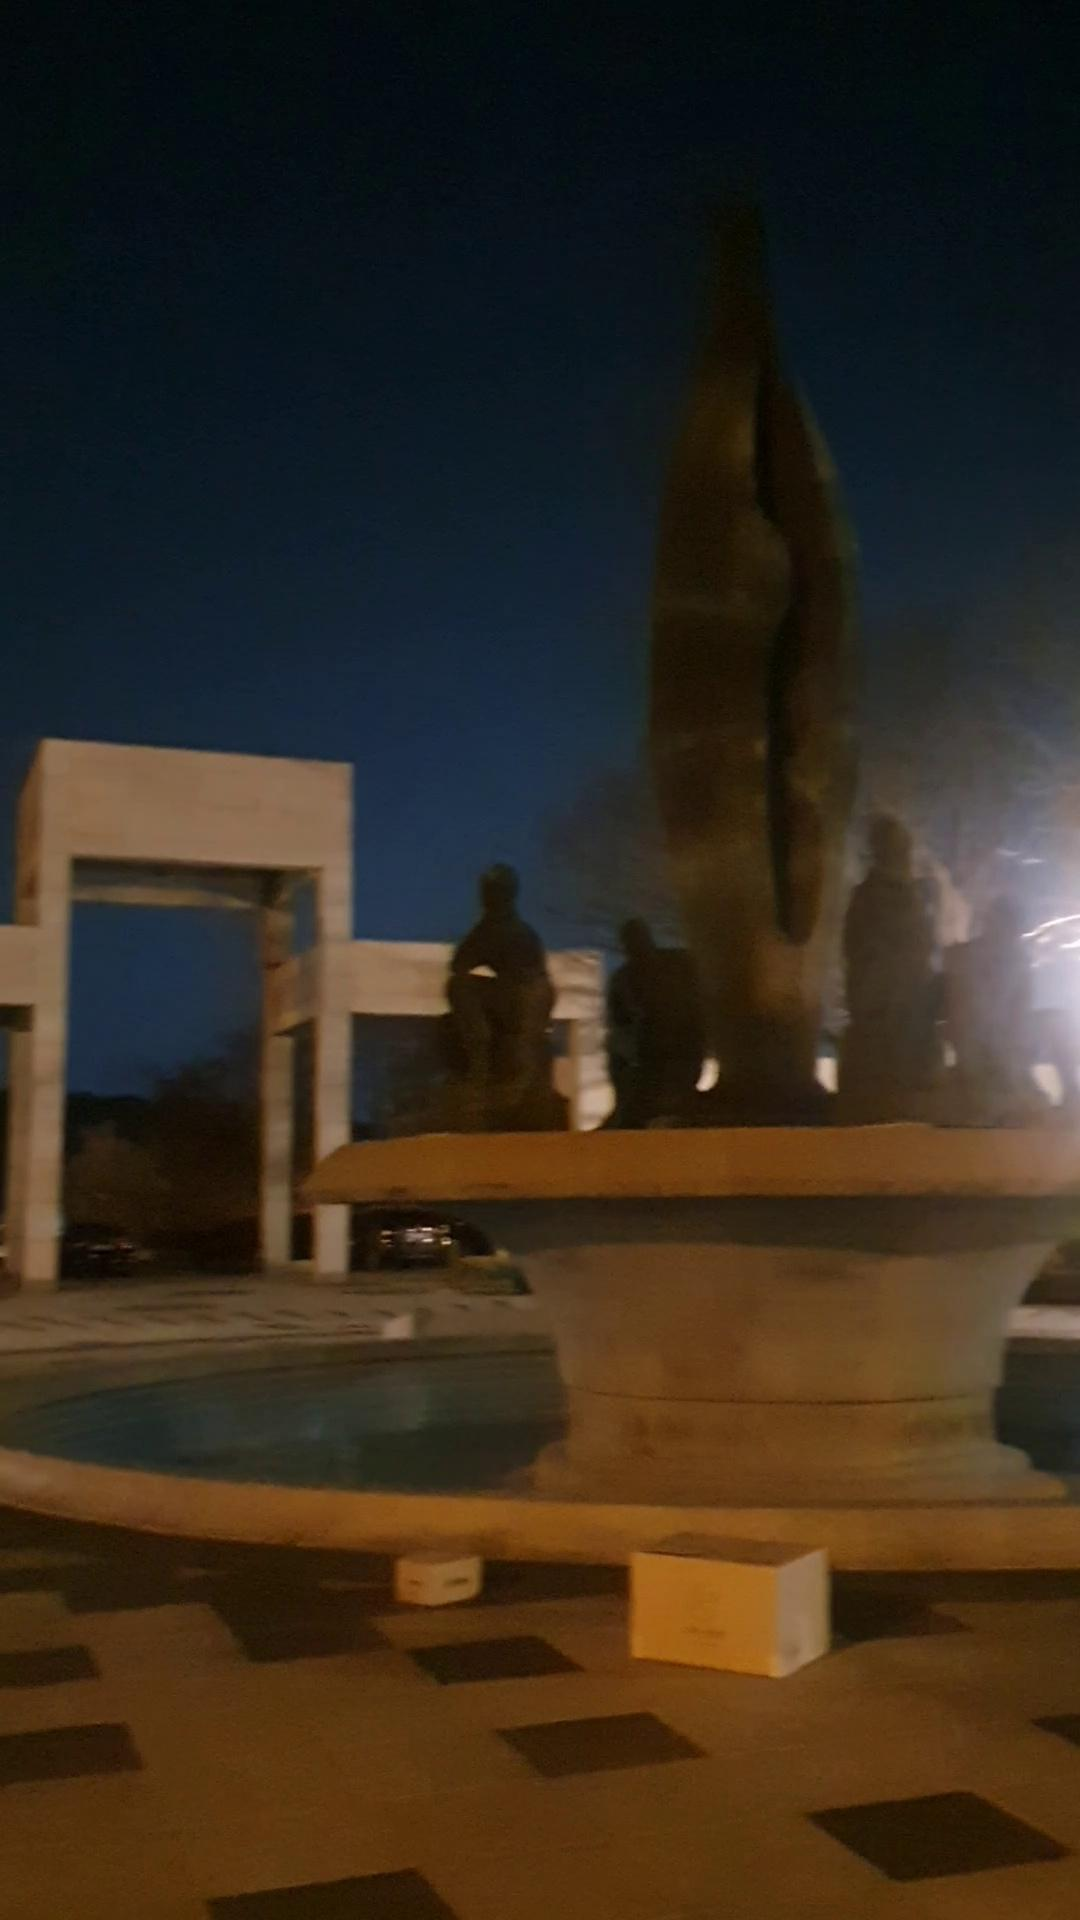Box: (618, 1528, 843, 1691), (386, 1538, 491, 1619)
